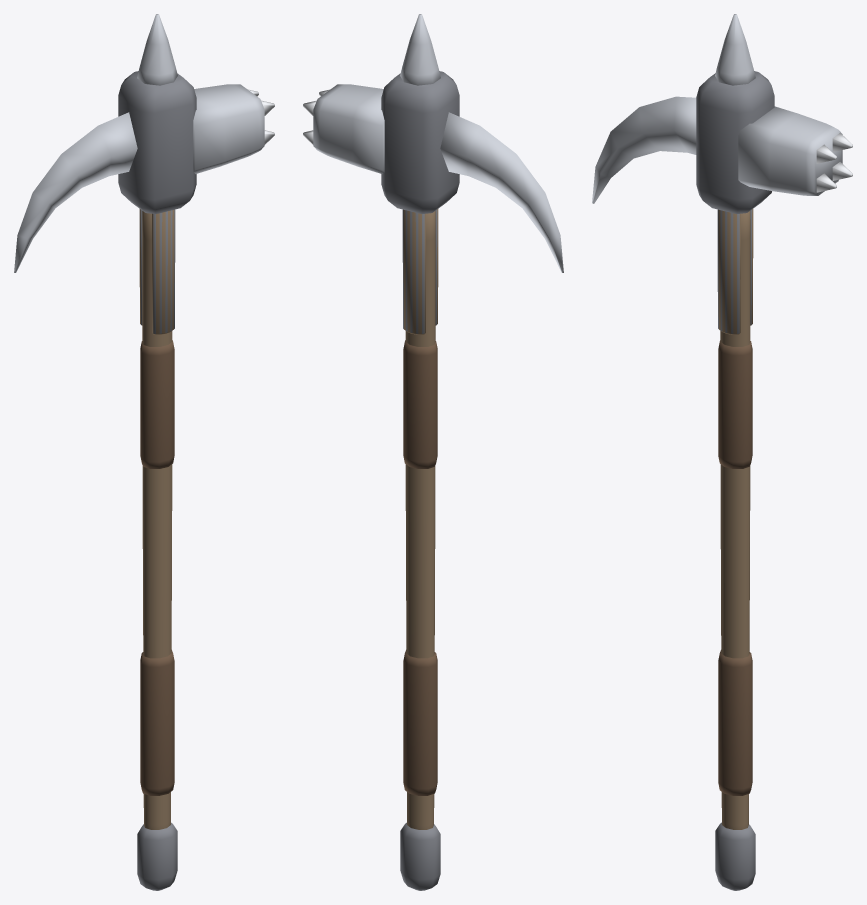
Rendered from weapon_warhammer.glb.
3 renders of one model, left to right at view 1: azimuth 30°, elevation 25°; view 2: azimuth 150°, elevation 25°; view 3: azimuth 330°, elevation 25°, orthographic.
Parts seen in each view (by area): view 1: M_Weapon; view 2: M_Weapon; view 3: M_Weapon.
Part boxes in pixels (x1,y1,x2,y2): M_Weapon: [14, 14, 274, 890]; M_Weapon: [303, 14, 563, 890]; M_Weapon: [592, 14, 852, 890].
Bounding box in the file's own units: 0.3475 × 1.15 × 0.084.
